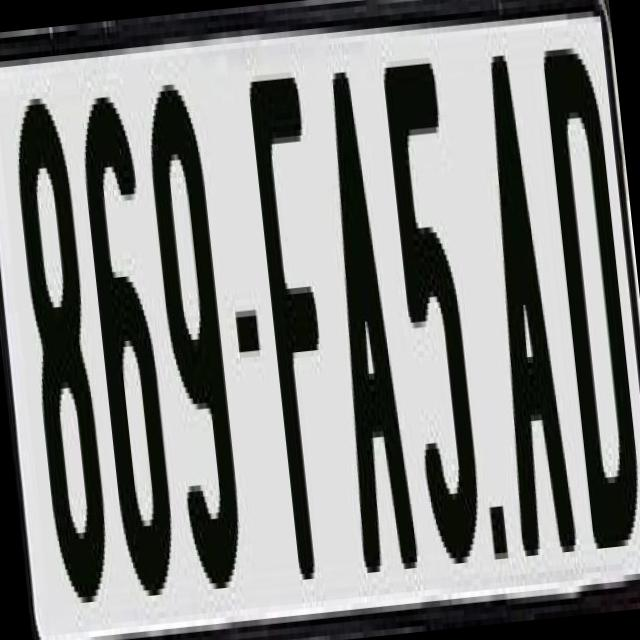5: (378, 45, 482, 560)
6: (74, 94, 188, 627)
8: (9, 84, 116, 610)
9: (141, 65, 246, 585)
A: (466, 41, 580, 574), (308, 64, 414, 573)
D: (540, 27, 640, 560)
F: (246, 64, 352, 568)
